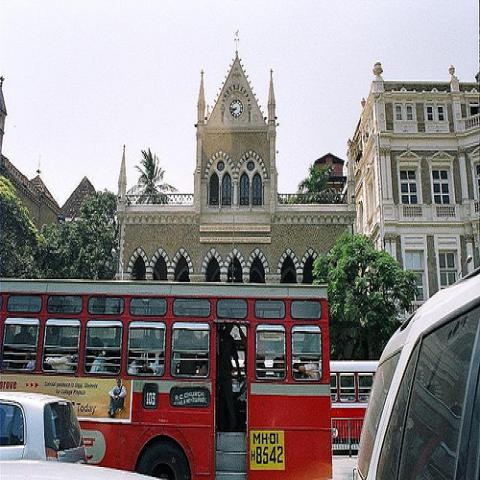bus: (1, 276, 333, 479), (331, 360, 382, 454)
car: (353, 266, 479, 479), (0, 391, 88, 466), (0, 458, 163, 479)
